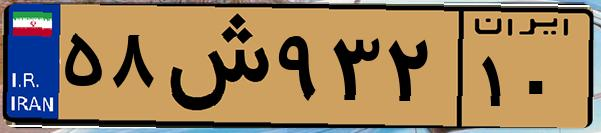0: (525, 38, 570, 115)
1: (475, 38, 525, 113)
2: (385, 28, 445, 110)
3: (330, 28, 385, 110)
5: (57, 26, 110, 100)
8: (110, 28, 158, 98)
9: (270, 28, 330, 110)
ش: (158, 12, 270, 120)
